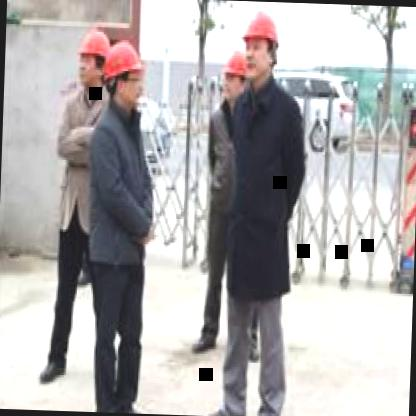helmet: (100, 36, 148, 118), (240, 3, 286, 88), (74, 22, 110, 92), (219, 39, 250, 109)
